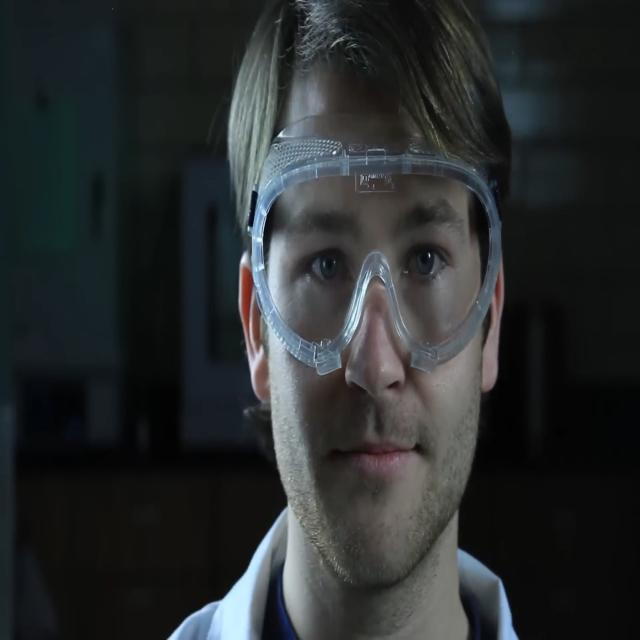googles: (241, 107, 511, 383)
labcoat: (166, 493, 521, 640)
